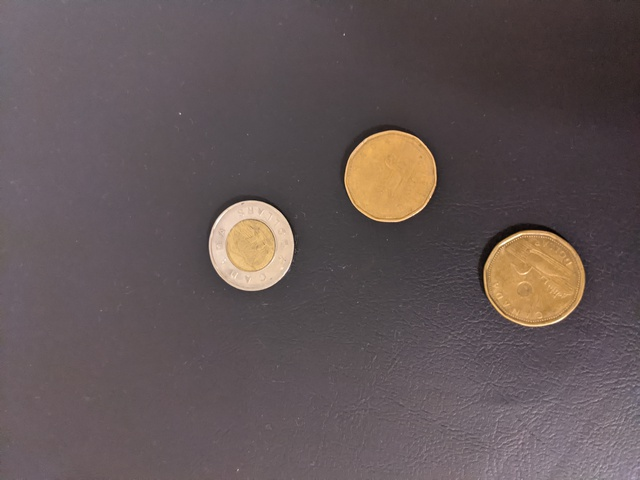loonie: (473, 217, 599, 335), (340, 115, 435, 228)
twonie: (201, 202, 302, 293)
